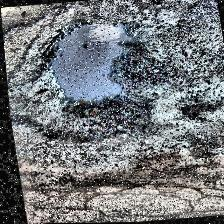pothole: (24, 14, 144, 135)
